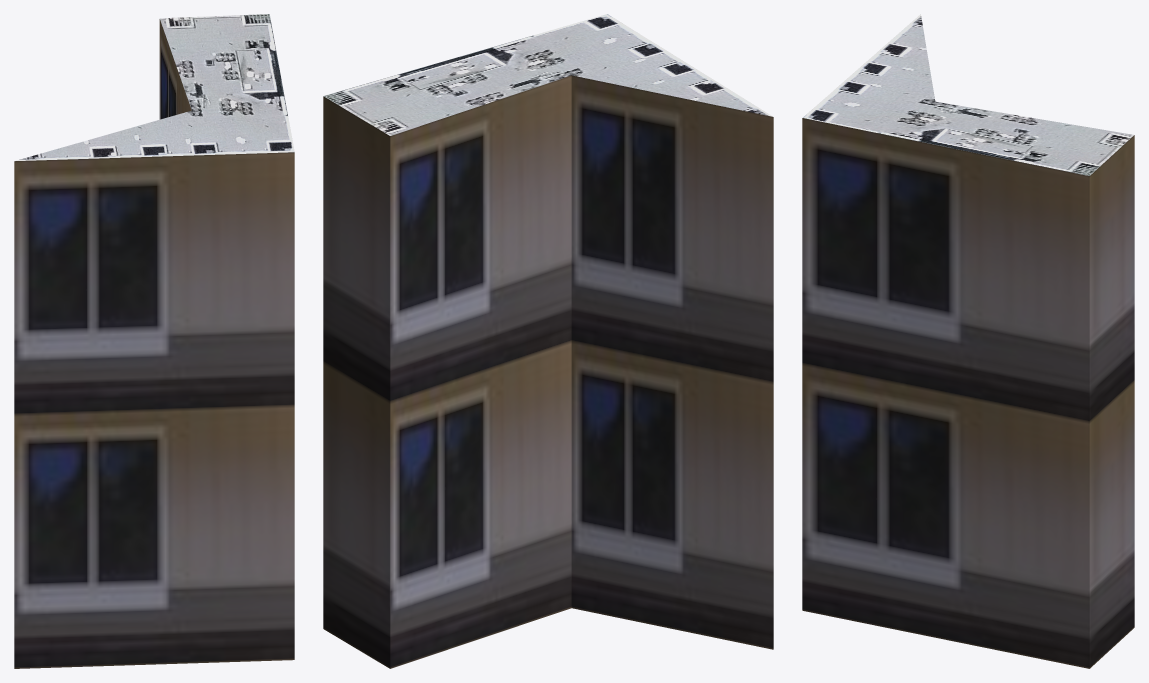
File: ResTex__2066.fbx
3 renders of one model, left to right at view 1: azimuth 30°, elevation 25°; view 2: azimuth 150°, elevation 25°; view 3: azimuth 270°, elevation 25°, orthographic. The views are drawn at different scales.
Parts seen in each view (by area): view 1: CityEngineMaterial_5_m, CityEngineMaterial_2_m; view 2: CityEngineMaterial_5_m, CityEngineMaterial_2_m; view 3: CityEngineMaterial_5_m, CityEngineMaterial_2_m.
Boxes of the visible parts, bbox=[...] form: CityEngineMaterial_5_m: bbox=[14, 19, 294, 668]; CityEngineMaterial_2_m: bbox=[14, 14, 294, 161]; CityEngineMaterial_5_m: bbox=[323, 75, 773, 668]; CityEngineMaterial_2_m: bbox=[323, 14, 772, 135]; CityEngineMaterial_5_m: bbox=[802, 118, 1134, 668]; CityEngineMaterial_2_m: bbox=[803, 14, 1133, 175].
Bounding box in the file's own units: 4.23 × 6 × 3.66.
Materials: 2 (2 with a texture image).
